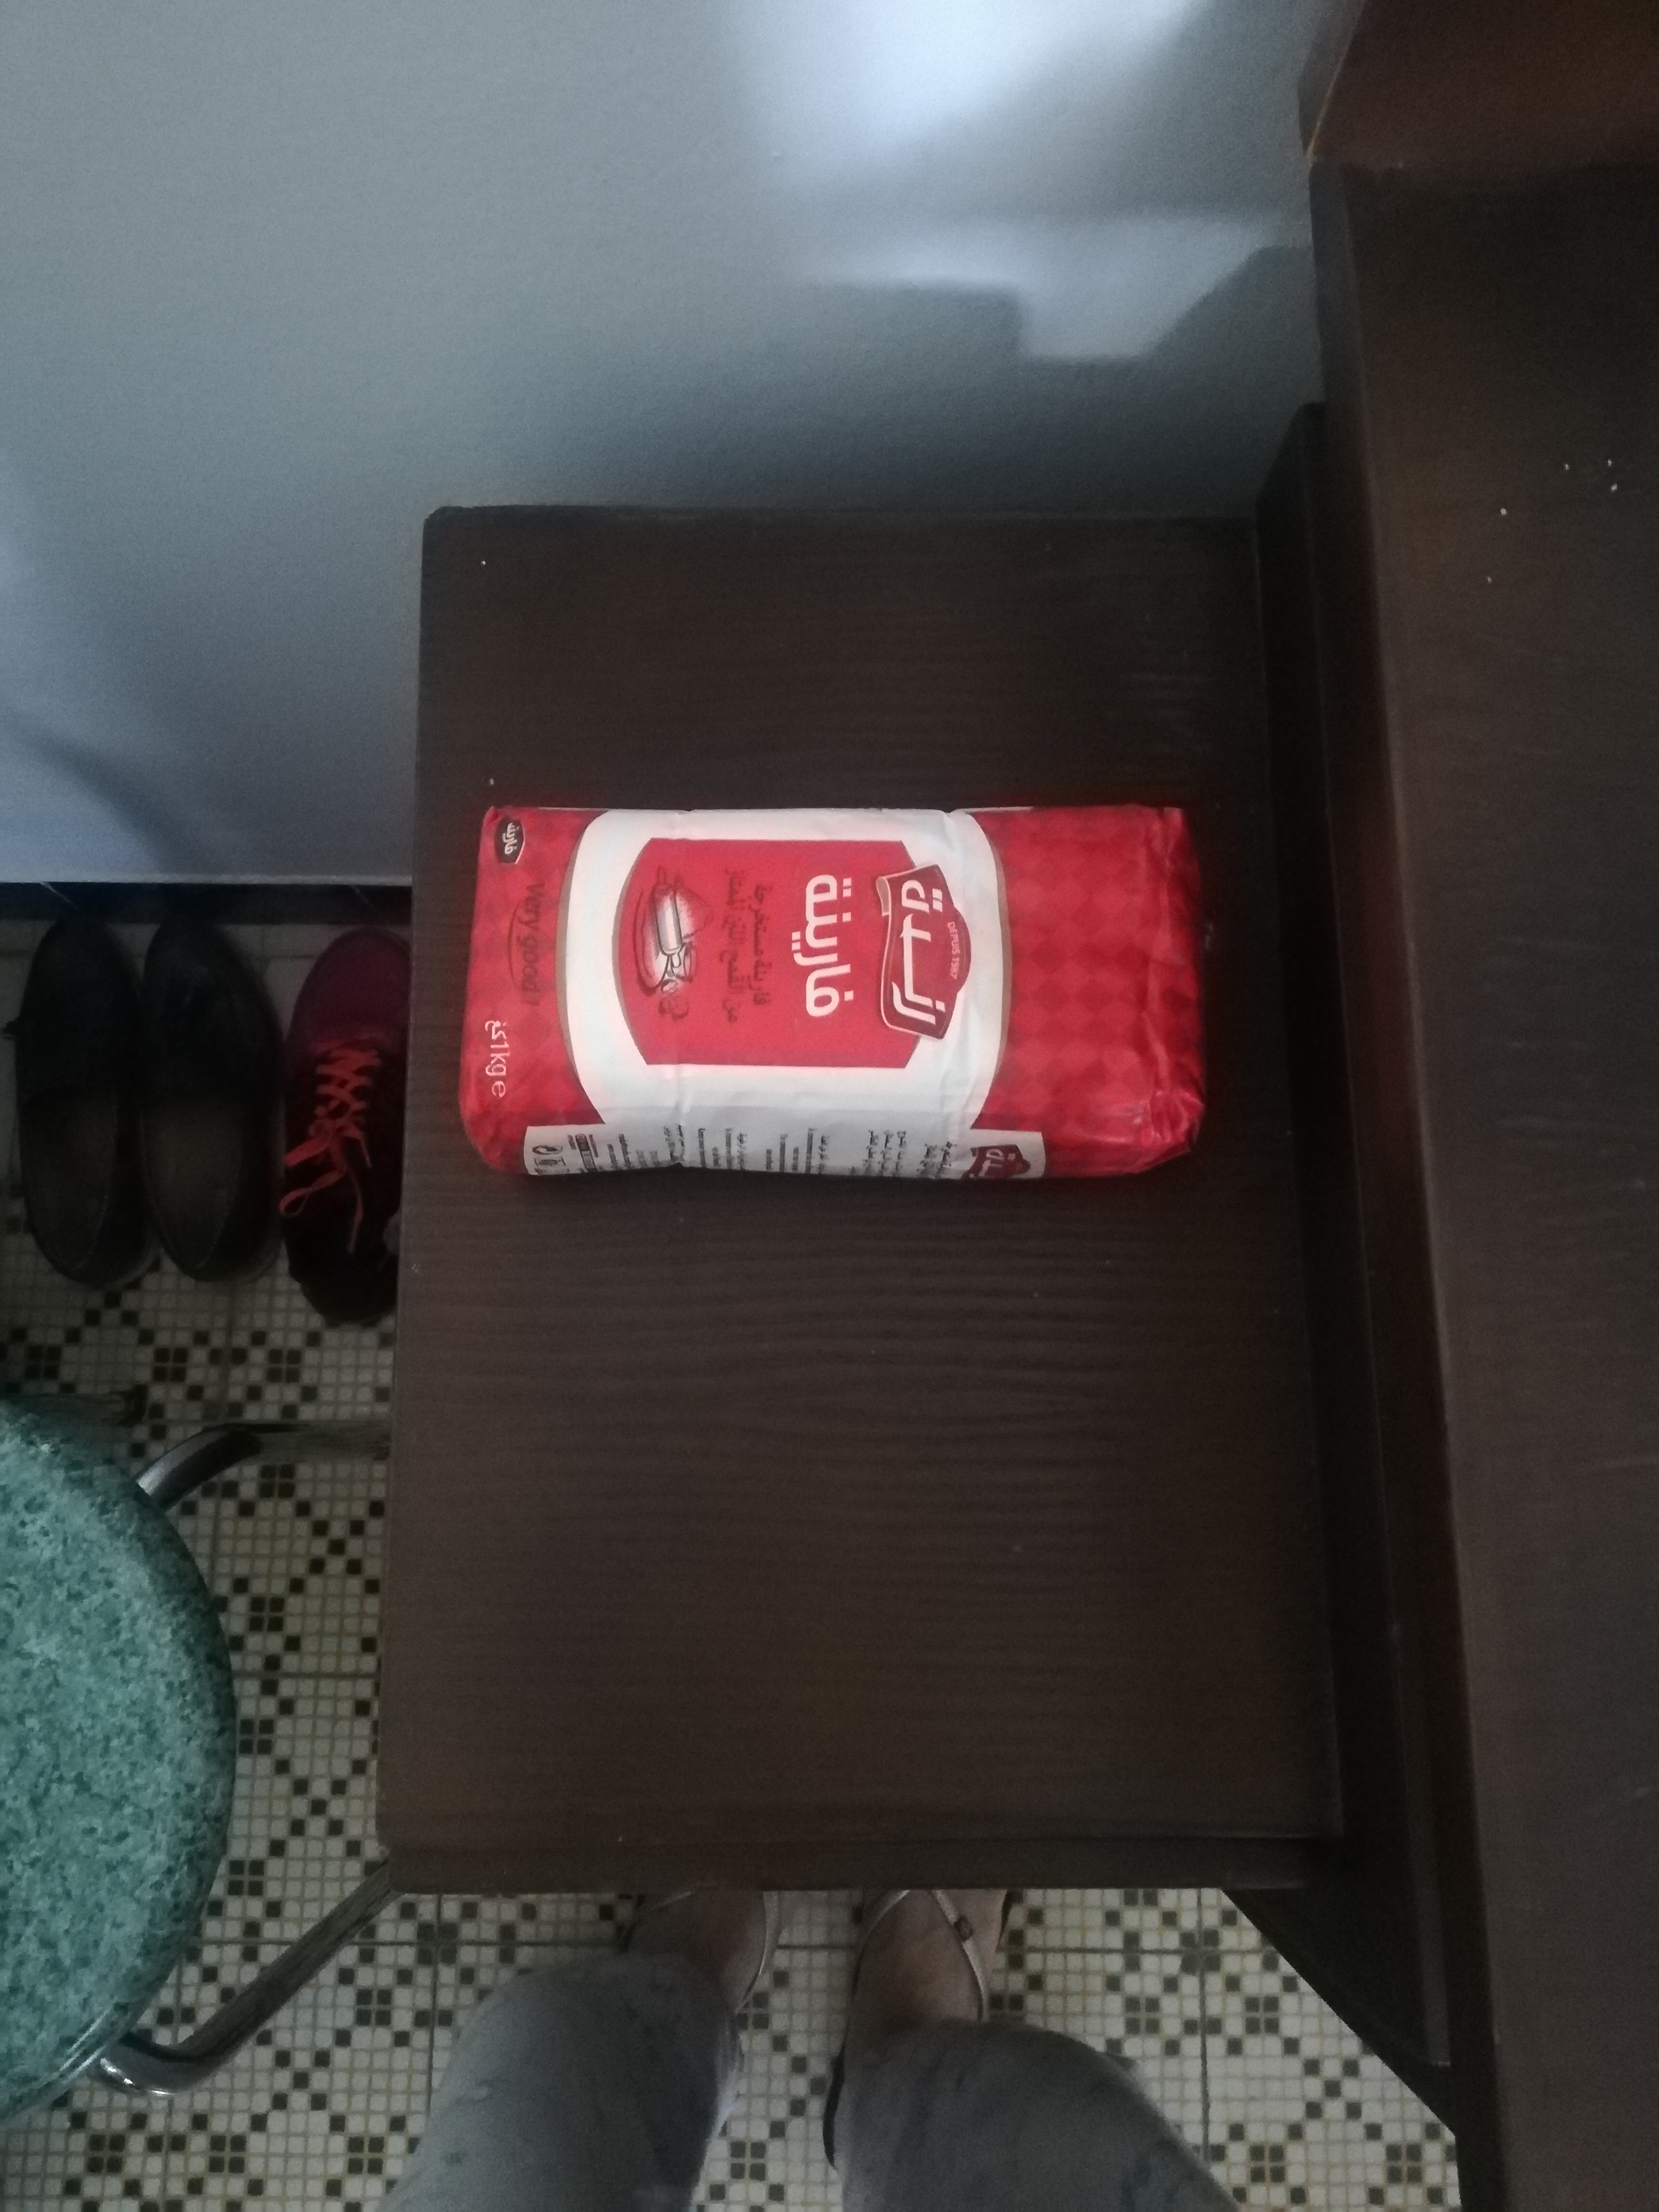Farine Randa: (469, 798, 1209, 1195)
